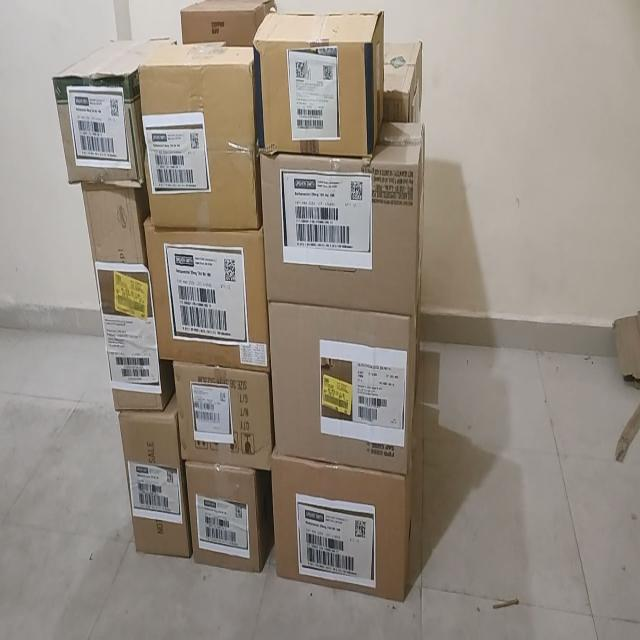BoxFace: (257, 120, 425, 314), (267, 300, 417, 474), (73, 175, 173, 412), (137, 41, 260, 230), (270, 442, 414, 602), (143, 216, 270, 371), (253, 9, 385, 158), (51, 34, 175, 188), (117, 396, 192, 558), (172, 359, 272, 470), (184, 458, 273, 572)
